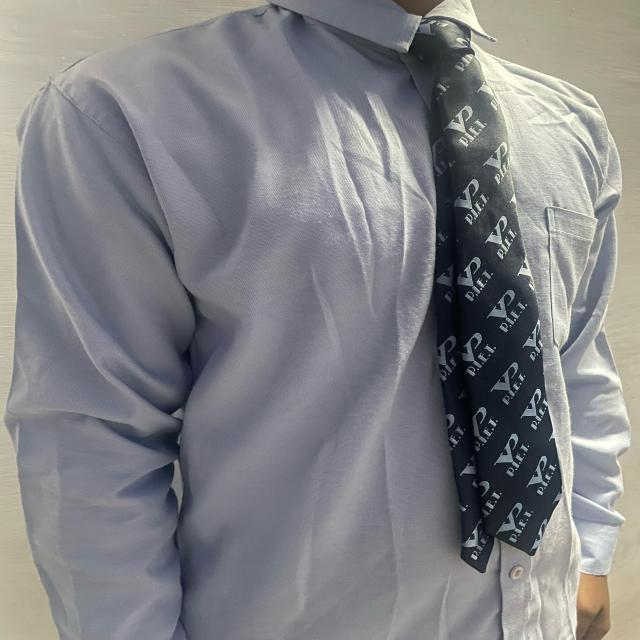Tie: (408, 17, 565, 572)
uniform: (4, 1, 630, 638)
